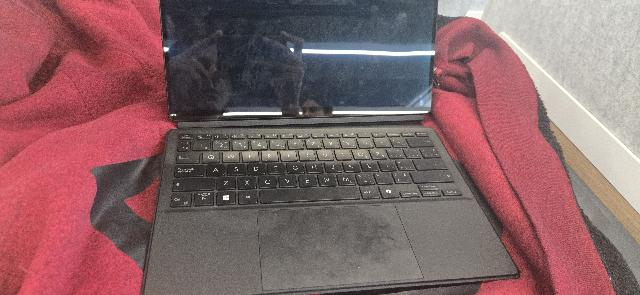Keyboard: (171, 130, 462, 208)
